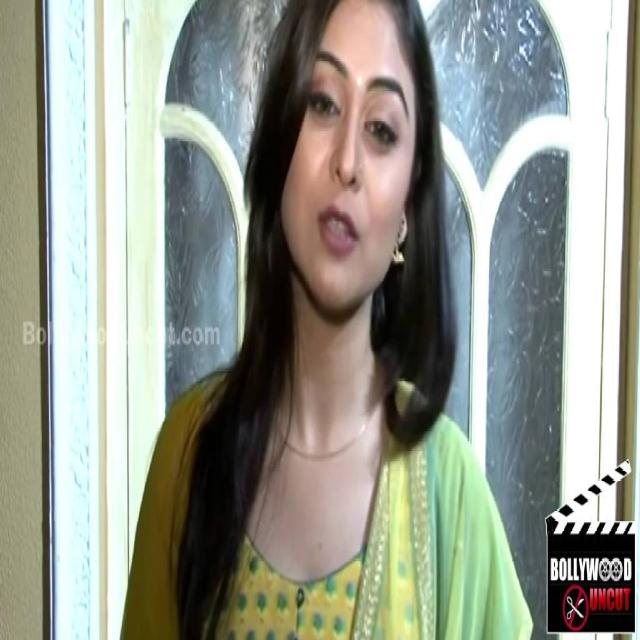Face: (297, 1, 415, 298)
